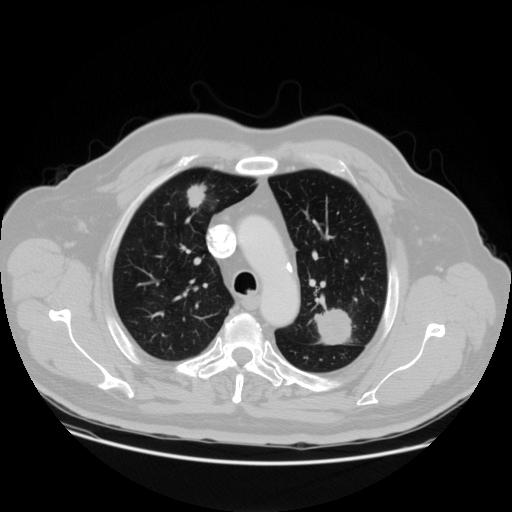nodule: (182, 182, 208, 208)
